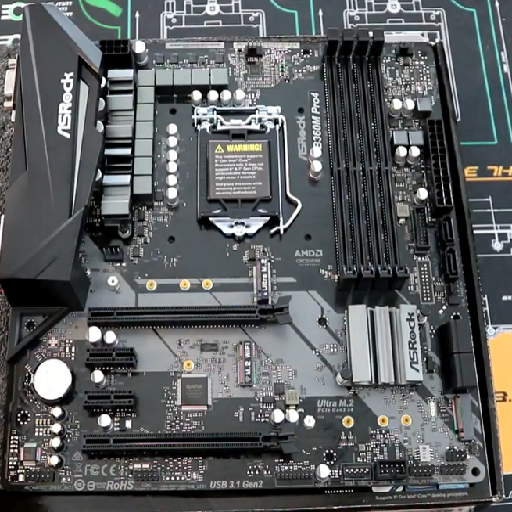CPU: (190, 102, 295, 237)
GPU: (78, 424, 297, 464), (81, 294, 296, 326)
MOTHERBOARD: (1, 6, 507, 504)
RAM: (314, 25, 411, 301)
SSD: (231, 336, 265, 390), (246, 254, 280, 308)
